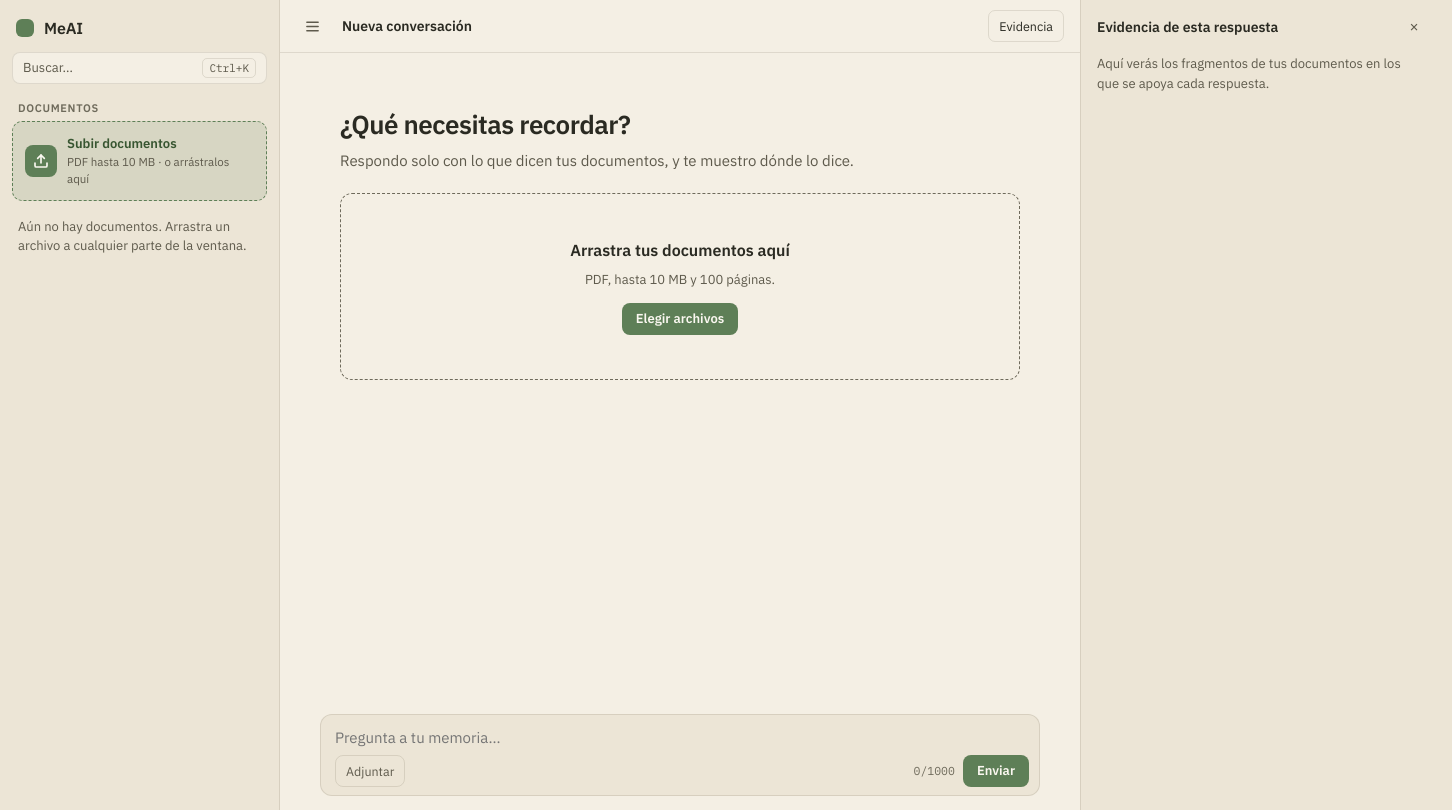
Test: discards partial text on deleted document cancellation, shows the reason and allows asking again (RF-8.3, RF-9.6)
Type "¿Qué dice el documento?" into the text box named "Escribe tu pregunta" at (682, 738), box [335,724,1029,751]
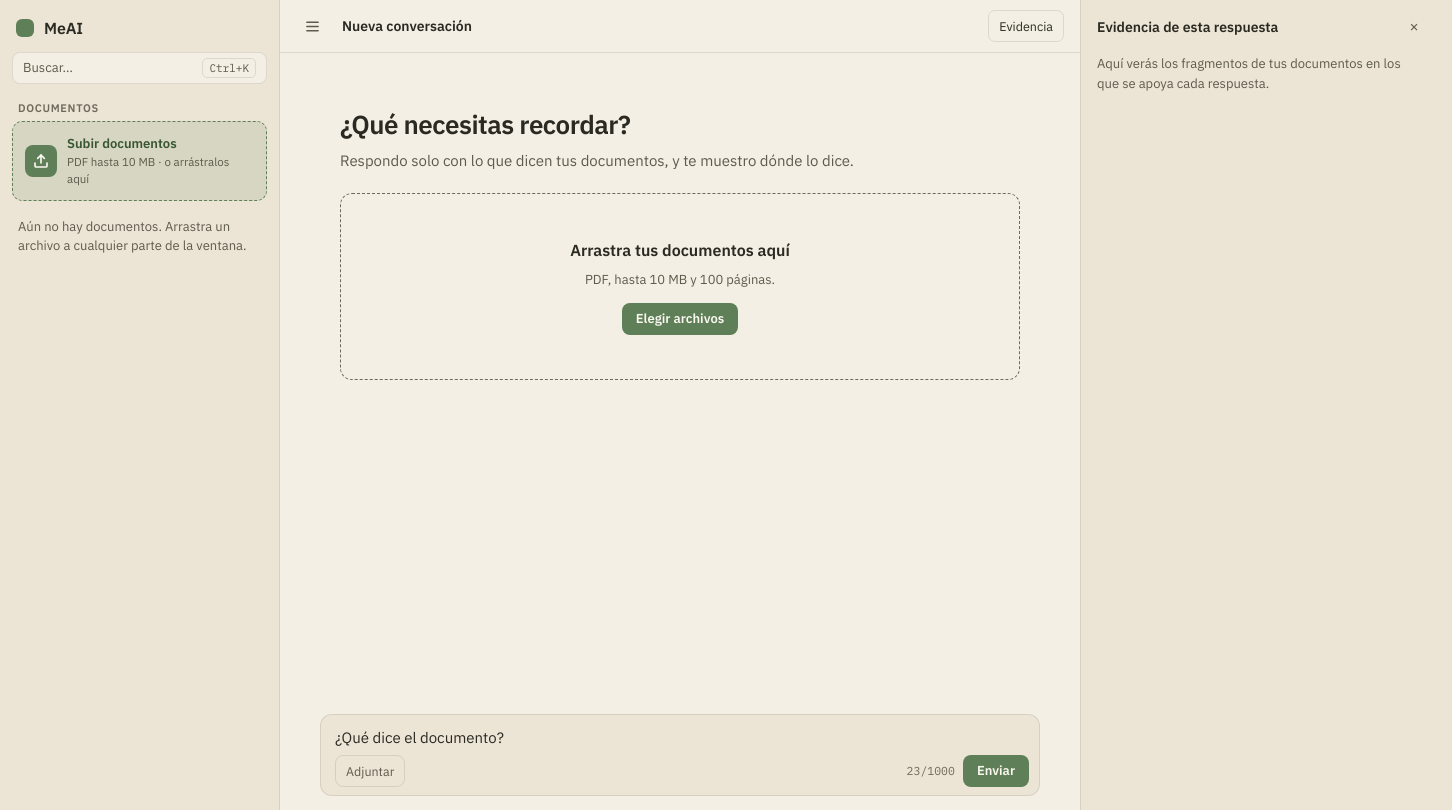
Click the button with aria-label "Enviar pregunta" at (996, 771), box [963,755,1029,787]
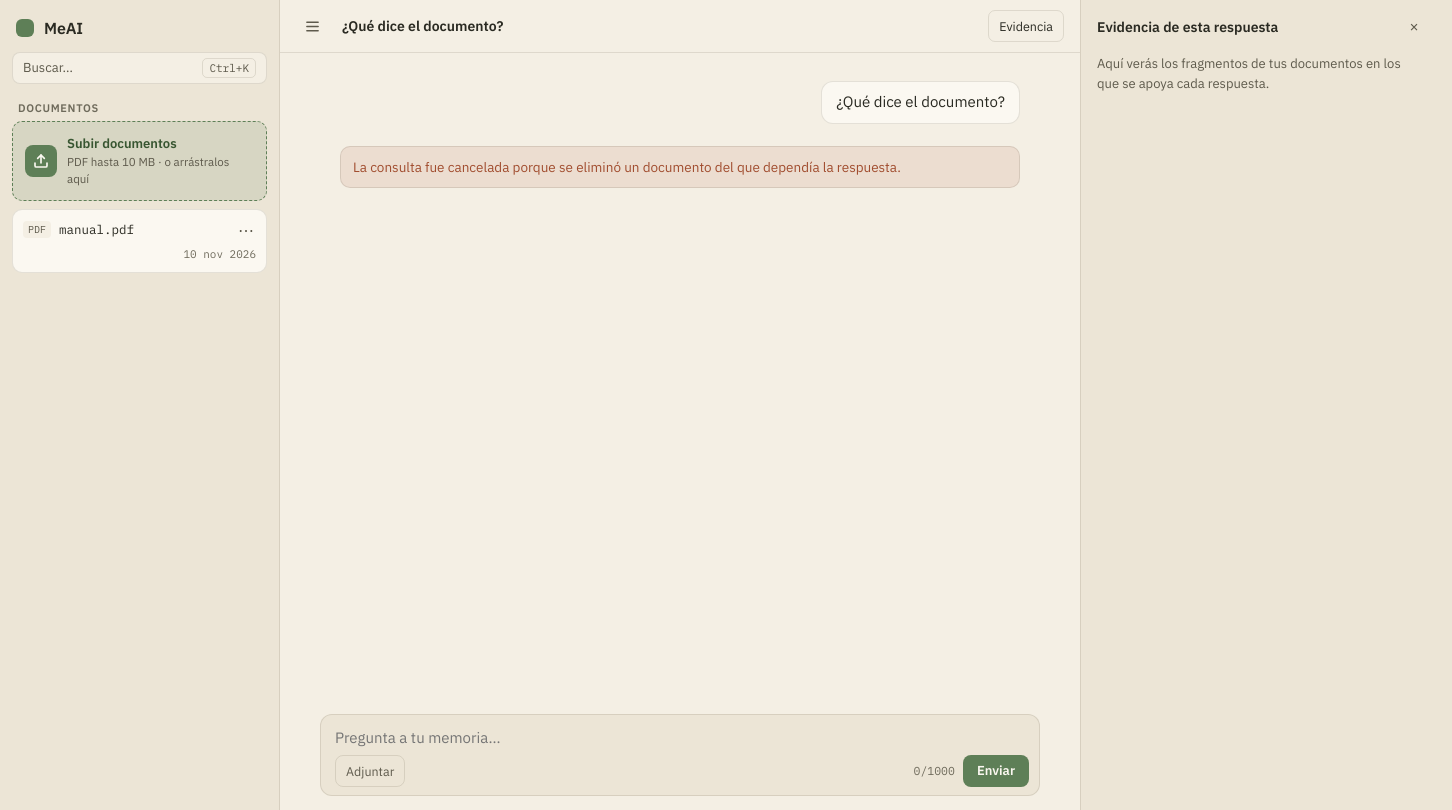
Expected: the message shows "La consulta fue cancelada porque se eliminó un documento del que dependía la respuesta.", [353,158,901,176]
Type "Otra pregunta" into the text box named "Escribe tu pregunta" at (682, 738), box [335,724,1029,751]
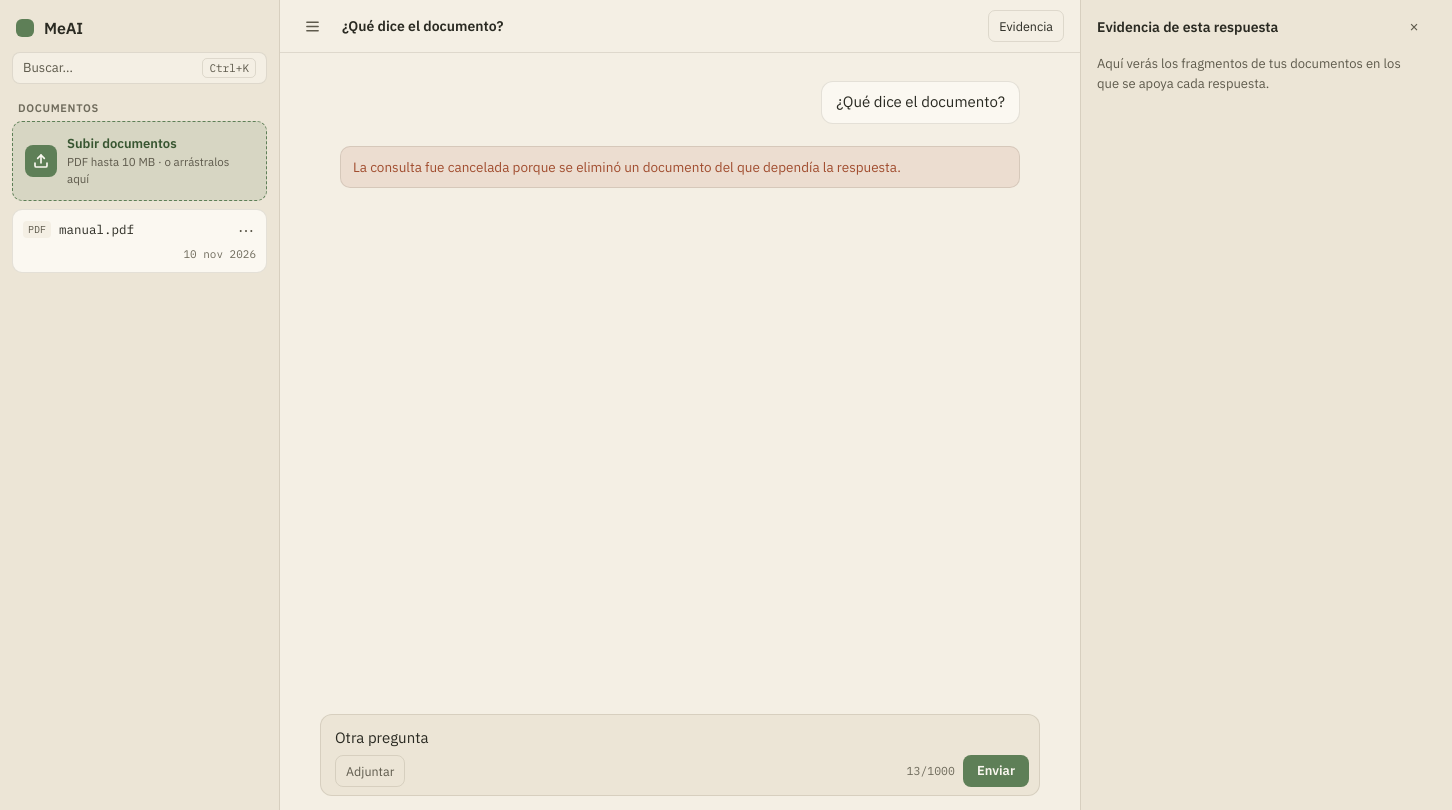
Click the button with aria-label "Enviar pregunta" at (996, 771), box [963,755,1029,787]
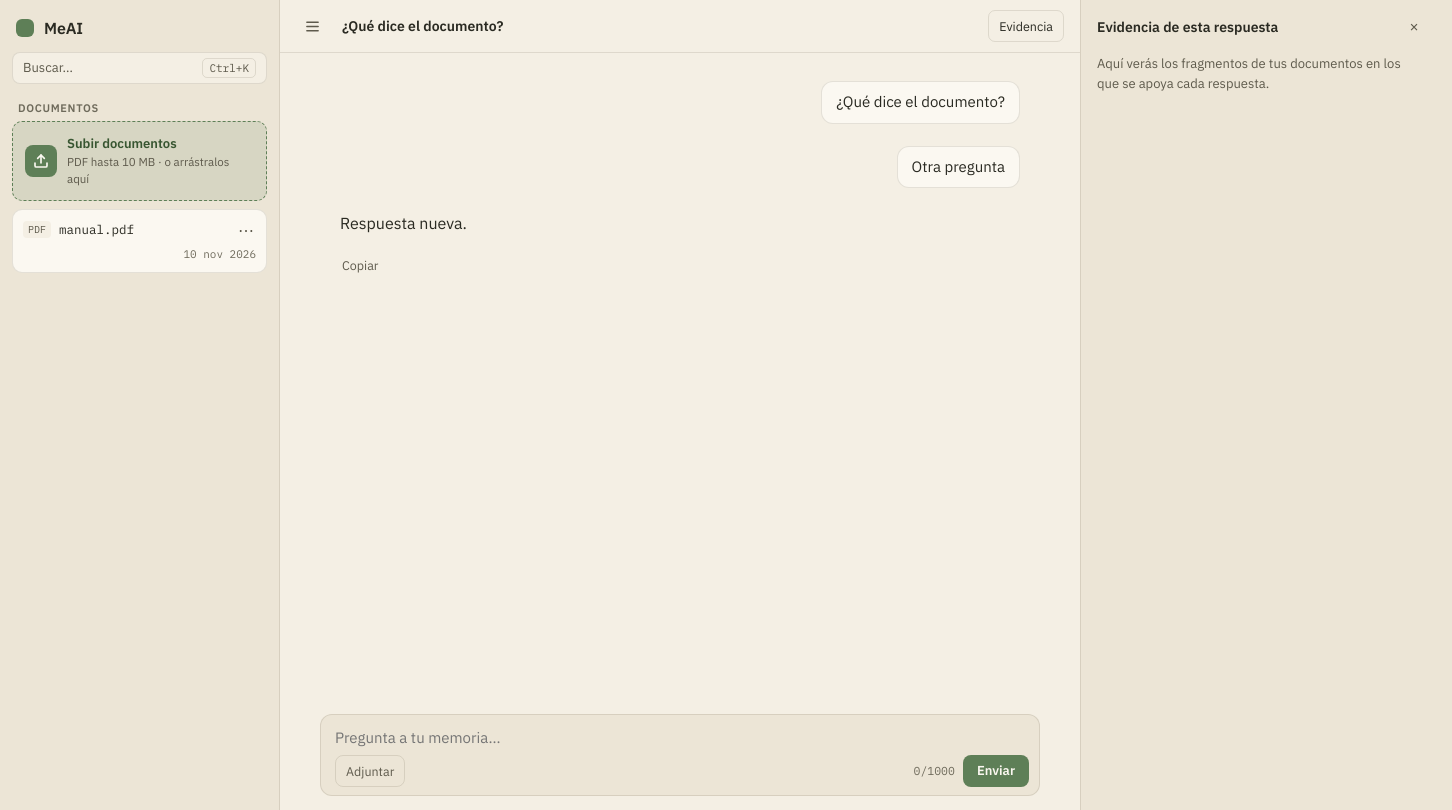
Expected: the text "Respuesta nueva." is shown, [340,213,467,233]
